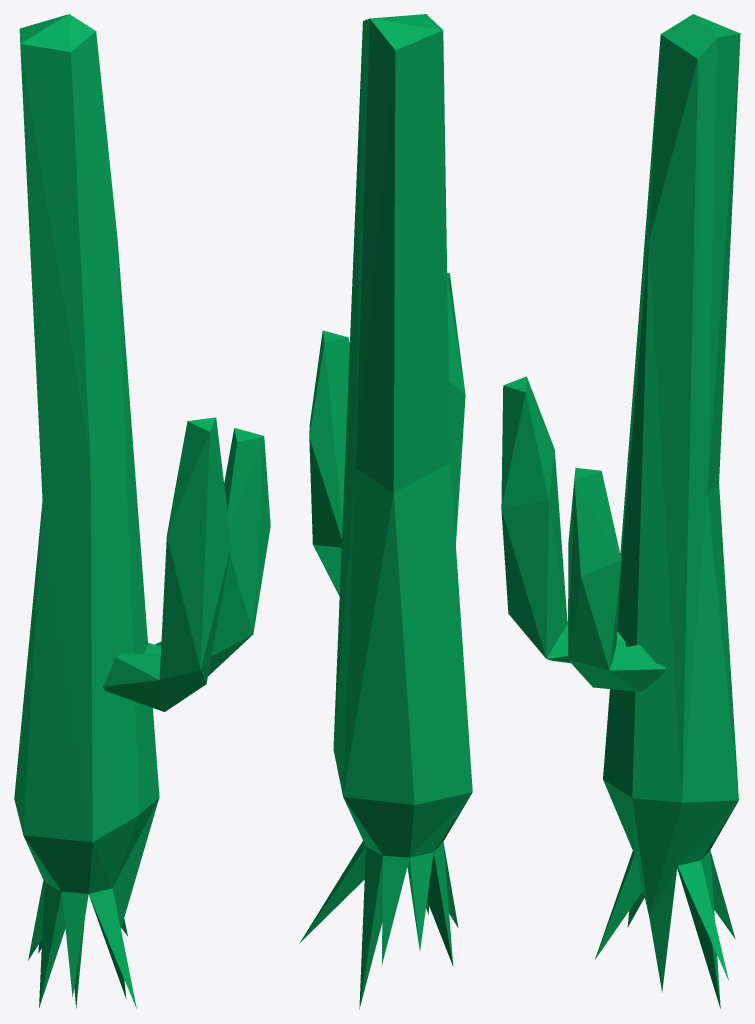
File: SeguaroCactusLarge1_LOD2.fbx
The picture shows the model from 3 angles, left to right: view 1: azimuth 30°, elevation 25°; view 2: azimuth 150°, elevation 25°; view 3: azimuth 270°, elevation 25°; orthographic projection. The views are drawn at different scales.
Visible parts, largest first — view 1: SeguaroCactusLarge1_LOD2; view 2: SeguaroCactusLarge1_LOD2; view 3: SeguaroCactusLarge1_LOD2.
Boxes of the visible parts, box(x1,y1,x2,y2) form: SeguaroCactusLarge1_LOD2: box(14, 14, 270, 1008); SeguaroCactusLarge1_LOD2: box(299, 14, 472, 1009); SeguaroCactusLarge1_LOD2: box(501, 14, 740, 1008).
Size of the model in its own units: 114 by 509 by 110.
